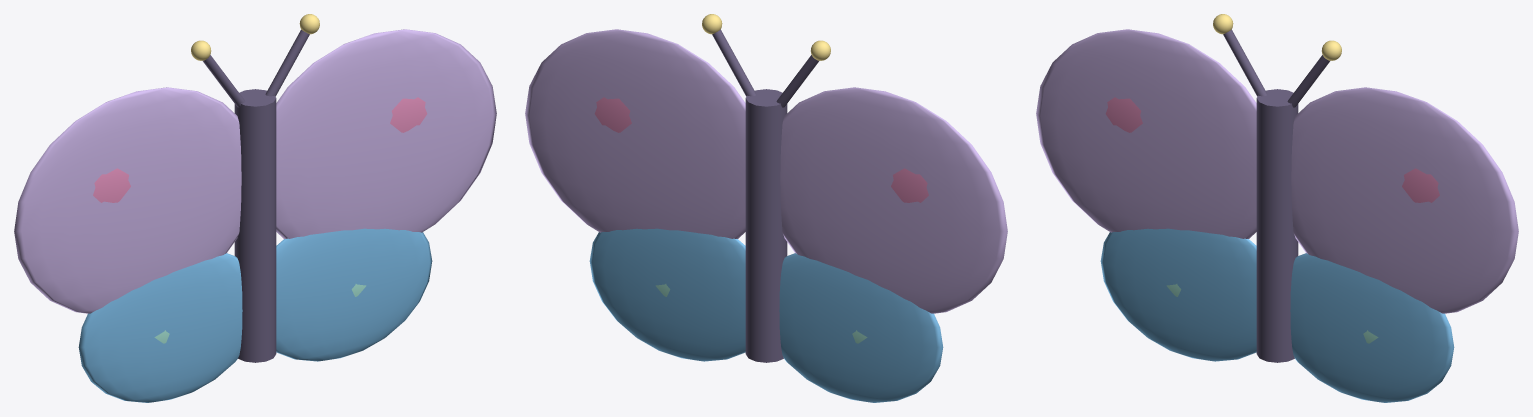
File: st_rain_jewel.glb
3 views of the same model, side by side, from view 1: azimuth 30°, elevation 25°; view 2: azimuth 150°, elevation 25°; view 3: azimuth 330°, elevation 25° (orthographic).
Visible parts, largest first — view 1: Jewel_Butterfly; view 2: Jewel_Butterfly; view 3: Jewel_Butterfly.
Part boxes in pixels (x1=…): Jewel_Butterfly: x1=14, y1=14, x2=496, y2=402; Jewel_Butterfly: x1=525, y1=14, x2=1007, y2=402; Jewel_Butterfly: x1=1036, y1=14, x2=1518, y2=402.
Bounding box in the file's own units: 1.42 × 0.986 × 0.106.
